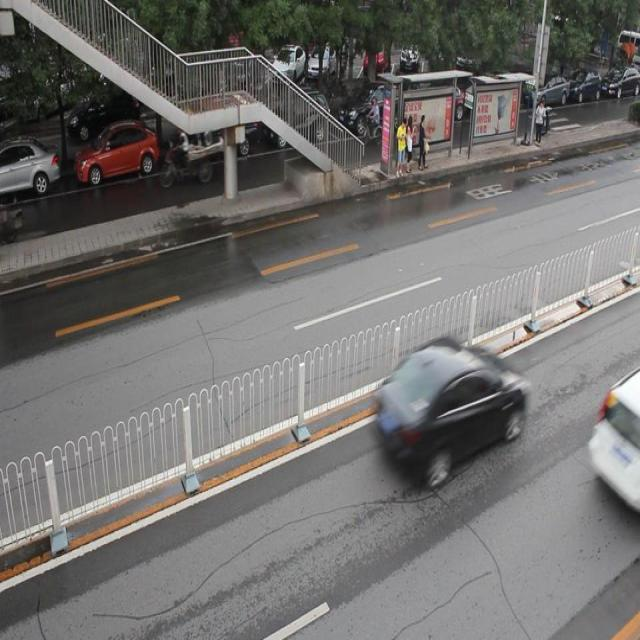car: (372, 334, 527, 485), (586, 371, 640, 505), (73, 118, 160, 184), (169, 100, 256, 162), (264, 90, 331, 148), (339, 79, 408, 133), (1, 136, 59, 198)
